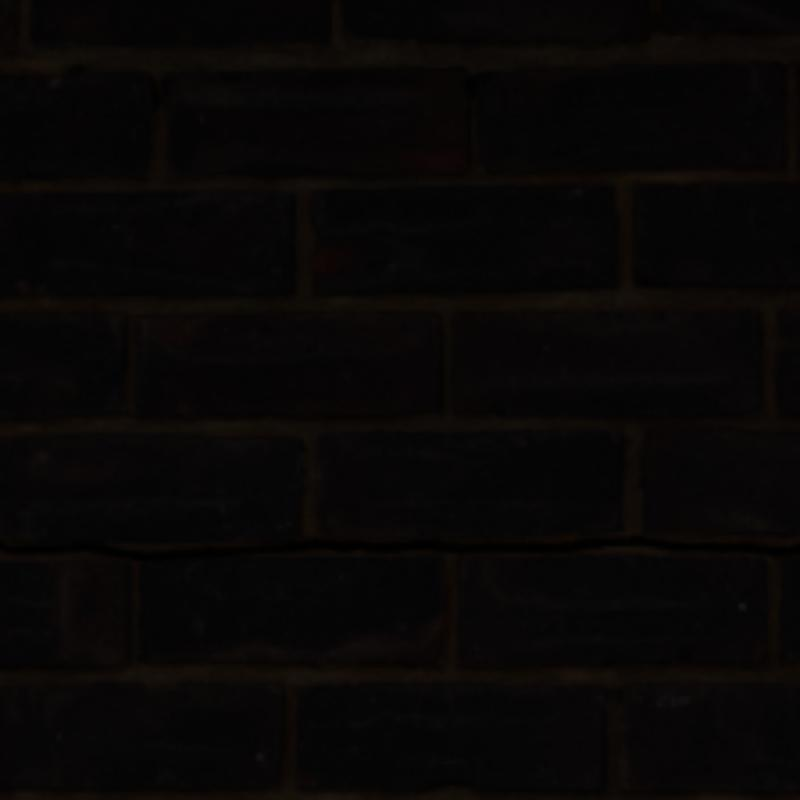pothole: (0, 536, 796, 557)
